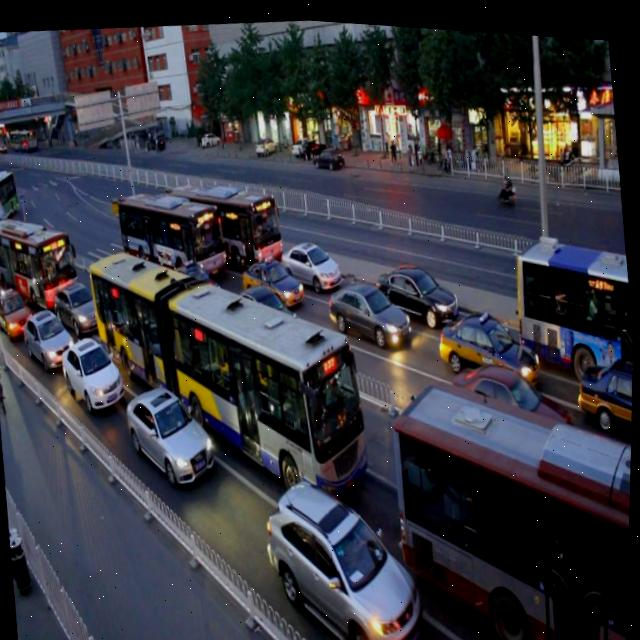car: (259, 457, 430, 640), (451, 343, 569, 453), (124, 373, 220, 491), (437, 292, 545, 396), (325, 263, 413, 350), (376, 246, 463, 325), (60, 328, 127, 416), (573, 341, 635, 420), (238, 242, 306, 311), (278, 224, 343, 293), (237, 269, 300, 336), (167, 253, 229, 315), (25, 303, 78, 374), (53, 274, 103, 334), (0, 278, 36, 341)
van: (83, 218, 380, 524), (385, 355, 634, 640), (508, 217, 637, 371), (113, 173, 231, 293), (168, 163, 287, 275), (0, 204, 80, 307)
